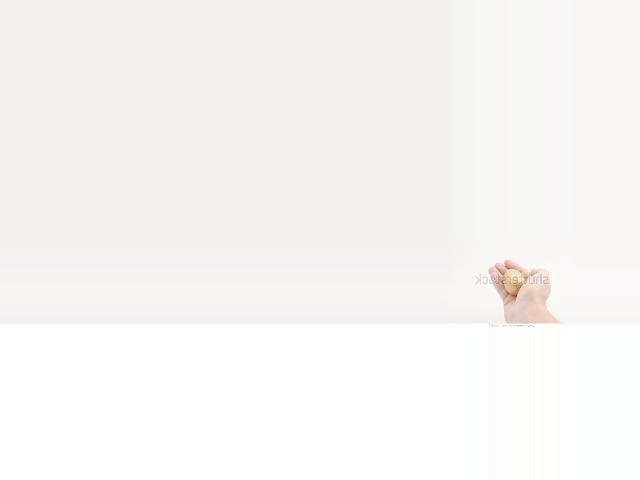egg: (503, 269, 524, 295)
